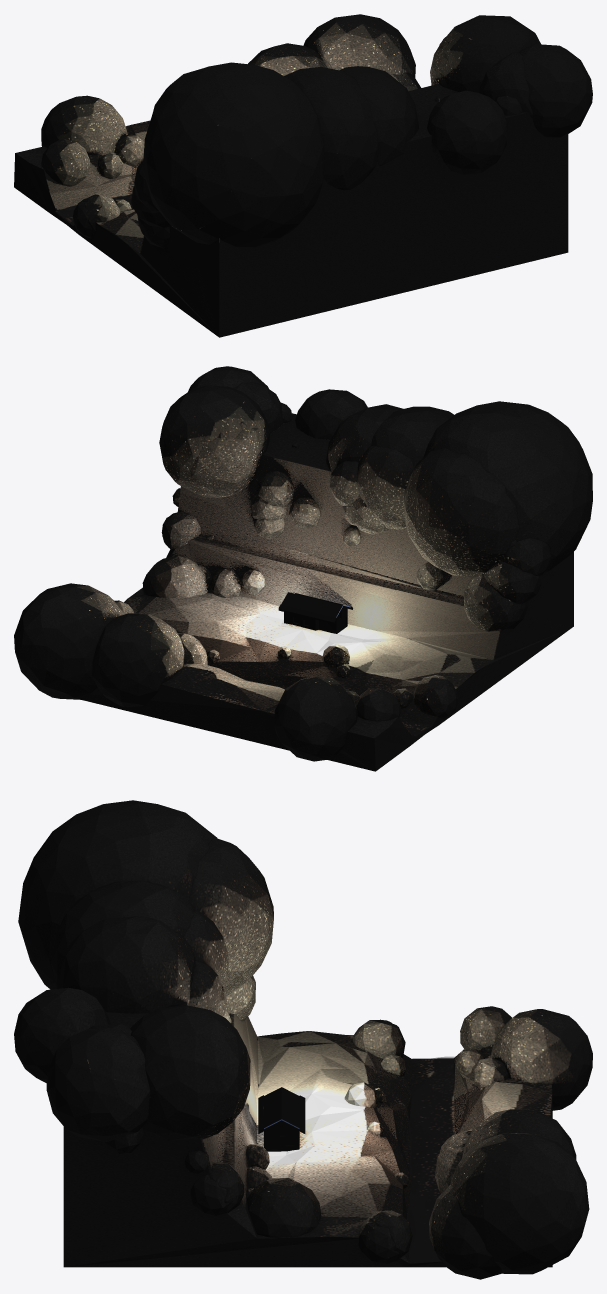
The model's file is CHATA.glb.
The picture shows the model from 3 angles, top to bottom: view 1: azimuth 30°, elevation 25°; view 2: azimuth 150°, elevation 25°; view 3: azimuth 270°, elevation 25°; orthographic projection. The views are drawn at different scales.
Visible parts, largest first — view 1: Cube.004, Cube; view 2: Cube.004, Cube, Plane; view 3: Cube.004, Cube, Cube.001, Plane.
Boxes of the visible parts, <box> form: Cube.004: <box>41,14,592,248</box>; Cube: <box>14,84,568,337</box>; Cube.004: <box>14,366,592,761</box>; Cube: <box>79,413,573,771</box>; Plane: <box>278,592,352,633</box>; Cube.004: <box>14,800,592,1279</box>; Cube: <box>63,1002,552,1267</box>; Cube.001: <box>407,1057,454,1262</box>; Plane: <box>258,1087,305,1151</box>.
Size of the model in its own units: 27.18 by 15.21 by 27.23.
Materials: 6 (4 with a texture image).
